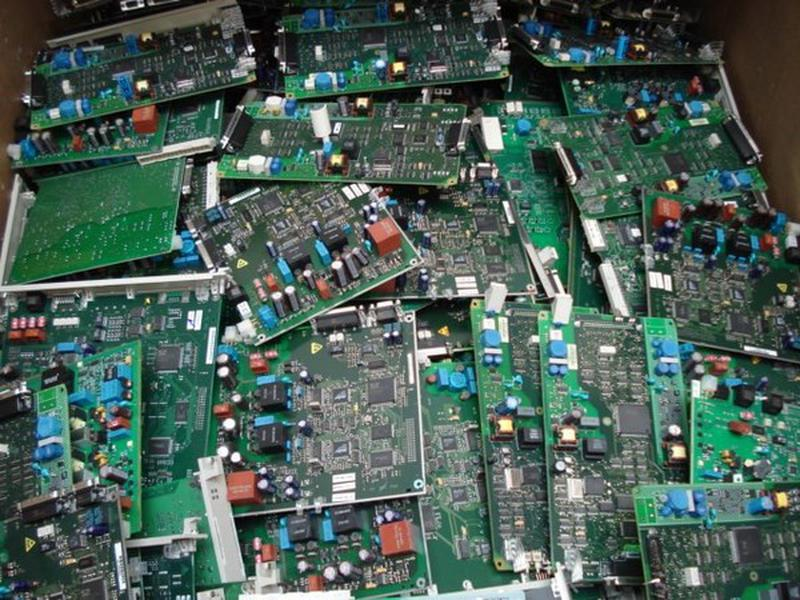circuit_board: (211, 295, 433, 516), (534, 295, 691, 585), (188, 184, 424, 353), (633, 179, 800, 367), (21, 1, 255, 128), (534, 106, 778, 223), (1, 340, 145, 536), (213, 94, 479, 187), (274, 1, 517, 101), (4, 156, 194, 283), (621, 469, 800, 600), (232, 496, 438, 596), (513, 8, 737, 75), (684, 368, 800, 487), (562, 68, 725, 117)
